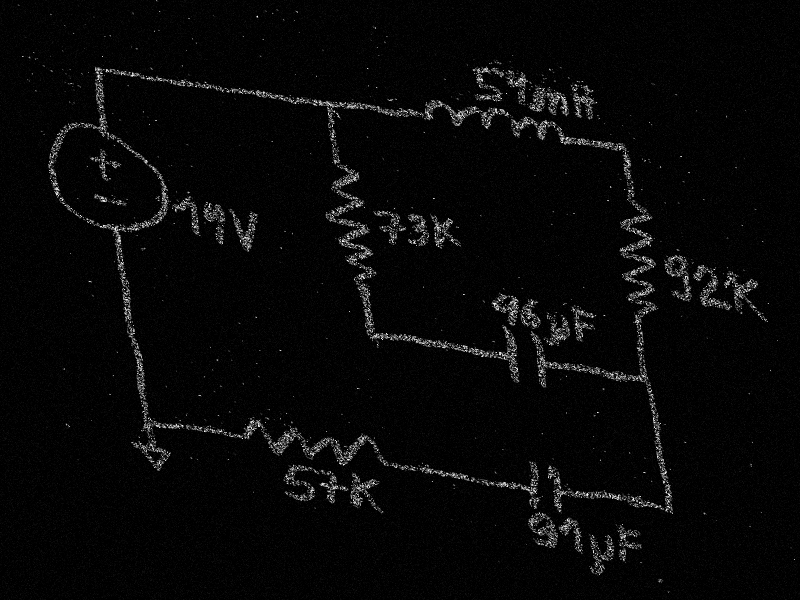-: (91, 191, 129, 209)
1: (170, 191, 202, 240), (556, 514, 587, 558)
2: (690, 261, 732, 314)
3: (404, 209, 431, 251)
4: (201, 198, 229, 248), (488, 288, 521, 329), (503, 67, 528, 108)
5: (279, 459, 323, 507), (468, 63, 508, 106)
6: (517, 294, 543, 332)
7: (370, 207, 408, 249), (317, 467, 350, 509)
9: (658, 250, 696, 308), (524, 507, 560, 551)
F: (614, 523, 646, 569), (570, 306, 600, 347)
H: (567, 80, 599, 124)
V: (226, 207, 263, 255)
k: (726, 269, 768, 324), (348, 470, 384, 517), (428, 212, 465, 253)
m: (526, 81, 572, 122)
u: (585, 531, 619, 580), (540, 310, 572, 351)
